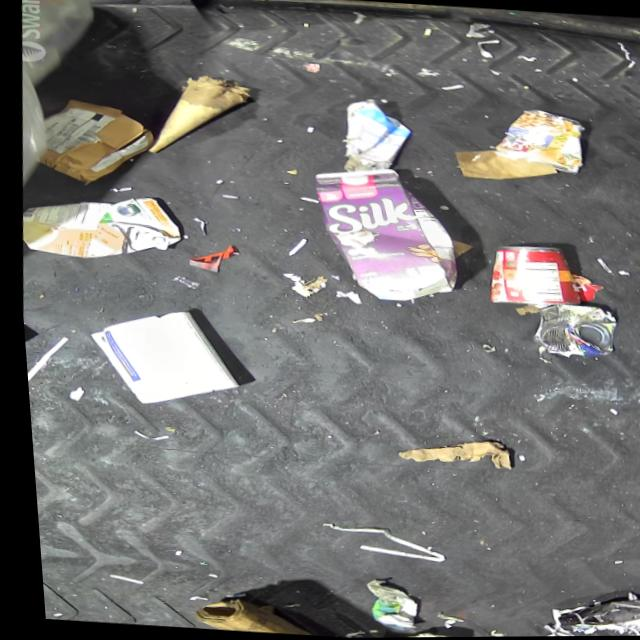can: (488, 106, 586, 175), (479, 242, 579, 309), (522, 301, 616, 361), (366, 630, 454, 638)
non_white_jug: (303, 163, 466, 304), (15, 187, 179, 263)
